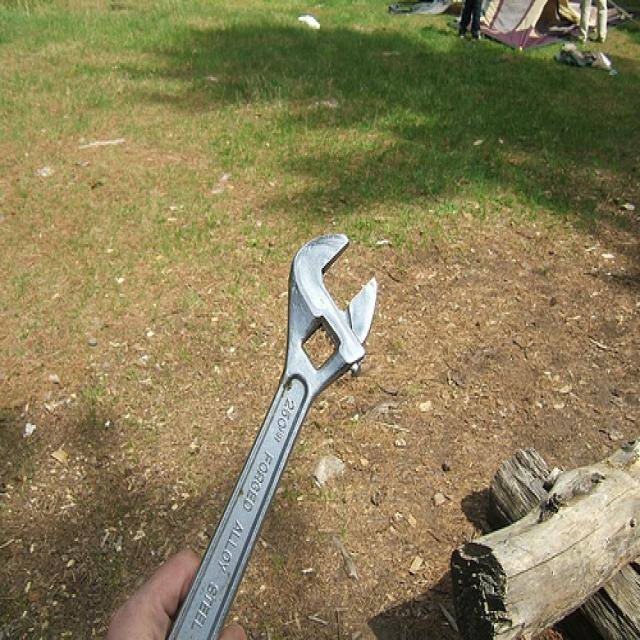wrench: (168, 224, 386, 638)
